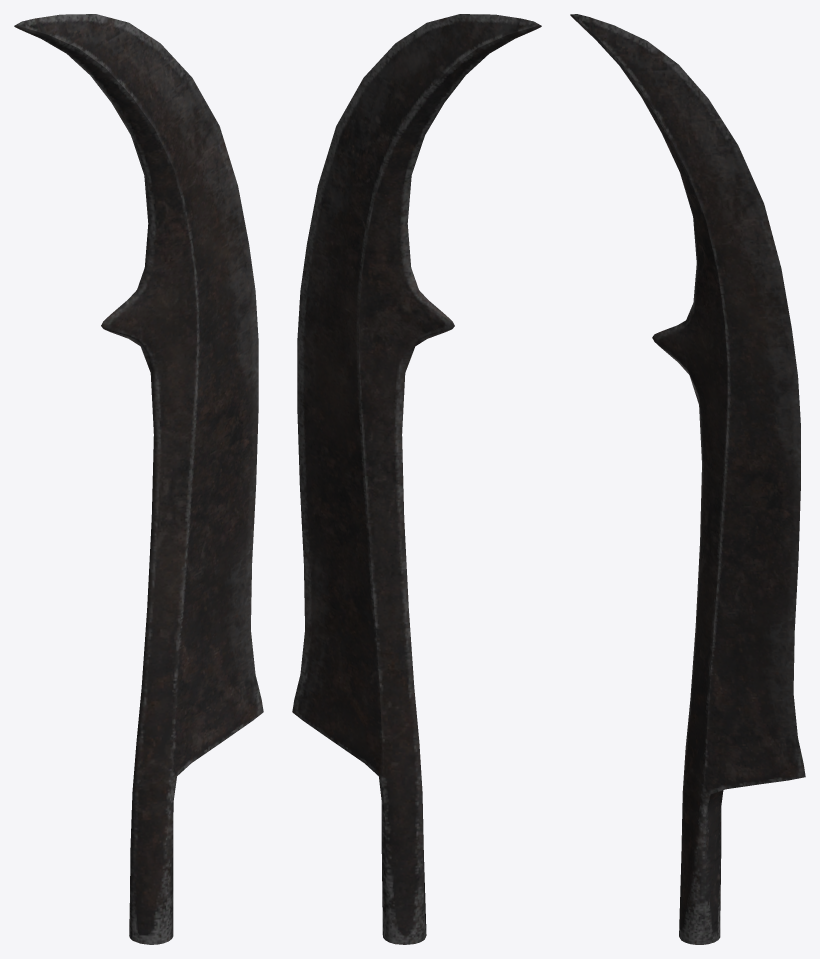
The model's file is wm_dol_goldur_halberd_a03_blade.fbx.
3 renders of one model, left to right at view 1: azimuth 30°, elevation 25°; view 2: azimuth 150°, elevation 25°; view 3: azimuth 330°, elevation 25°, orthographic. The views are drawn at different scales.
Parts seen in each view (by area): view 1: wm_dol_goldur_halberd_a03_blade; view 2: wm_dol_goldur_halberd_a03_blade; view 3: wm_dol_goldur_halberd_a03_blade.
Boxes of the visible parts, x1,y1,x2,y2 form: wm_dol_goldur_halberd_a03_blade: [14, 14, 263, 944]; wm_dol_goldur_halberd_a03_blade: [292, 14, 541, 944]; wm_dol_goldur_halberd_a03_blade: [570, 14, 805, 944].
Size of the model in its own units: 0.2188 by 0.0335 by 0.7925.
Materials: 1 (1 with a texture image).
